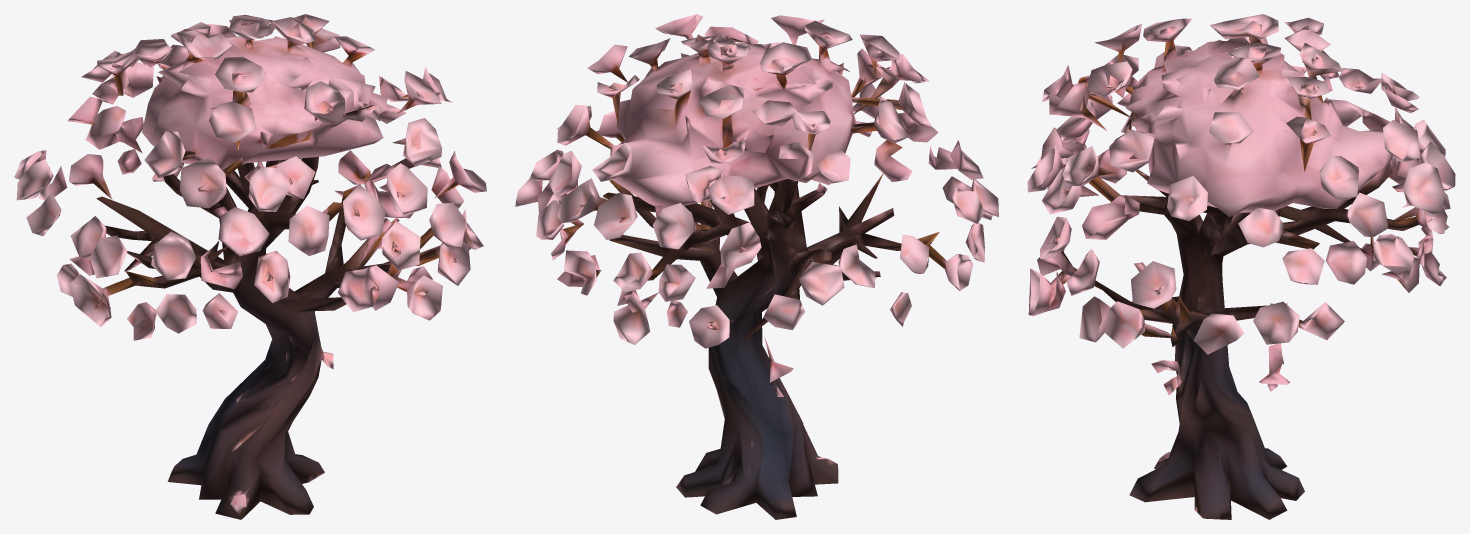
Rendered from tree_sakura_lod3k.glb.
3 renders of one model, left to right at view 1: azimuth 30°, elevation 25°; view 2: azimuth 150°, elevation 25°; view 3: azimuth 270°, elevation 25°, orthographic.
Visible parts, largest first — view 1: node_0; view 2: node_0; view 3: node_0.
Part boxes in pixels (left/top/right/bottom): node_0: left=14, top=14, right=486, bottom=519; node_0: left=515, top=14, right=998, bottom=519; node_0: left=1027, top=14, right=1455, bottom=519.
Size of the model in its own units: 5.71 by 5.97 by 5.13.
1 material, 1 textured.
